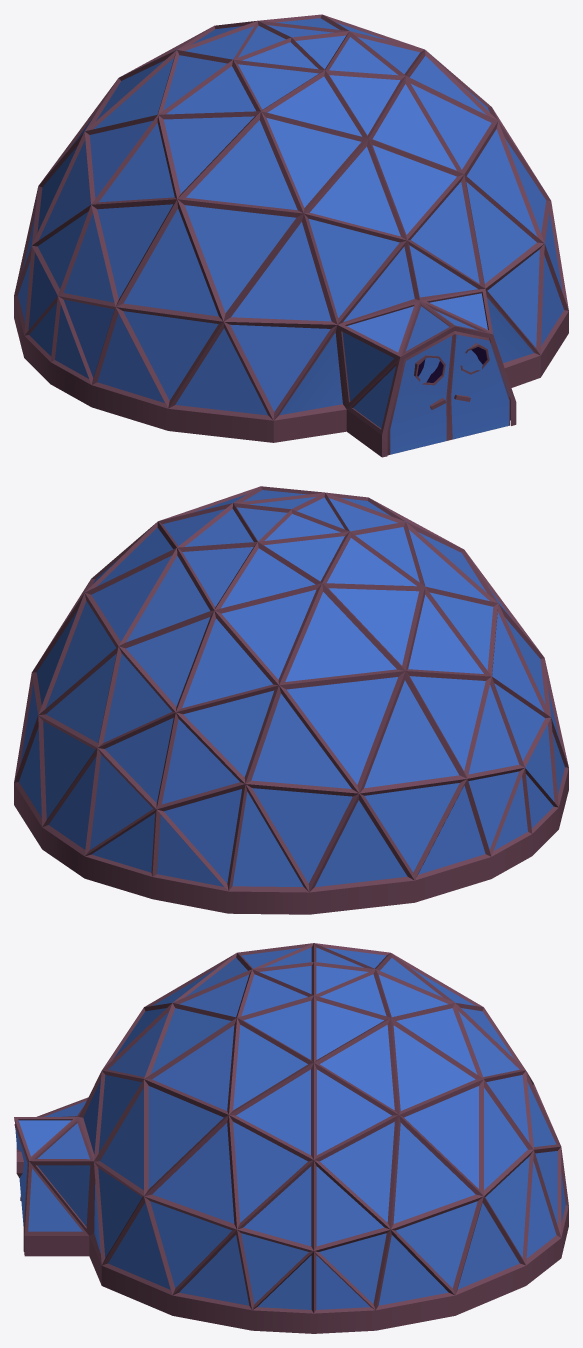
The model's file is environment_AlienCamp.fbx.
3 renders of one model, top to bottom at view 1: azimuth 30°, elevation 25°; view 2: azimuth 150°, elevation 25°; view 3: azimuth 270°, elevation 25°, orthographic. The views are drawn at different scales.
Visible parts, largest first — view 1: environment_CampAlienTent; view 2: environment_CampAlienTent; view 3: environment_CampAlienTent.
Part boxes in pixels (<box>): environment_CampAlienTent: <box>14,14,568,457</box>; environment_CampAlienTent: <box>14,486,568,914</box>; environment_CampAlienTent: <box>14,943,568,1333</box>.
Size of the model in its own units: 7.31 by 4.22 by 7.96.
